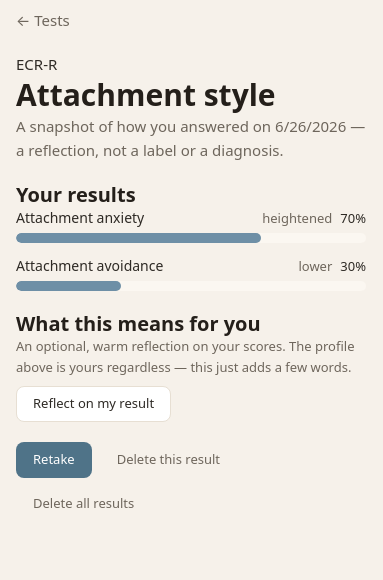
Test: TestResultScreen › shows a calm AI-off state when narrate is unavailable
The image size is (383, 580).
Click the button "Reflect on my result".
click(94, 404)  # box [16,386,171,422]
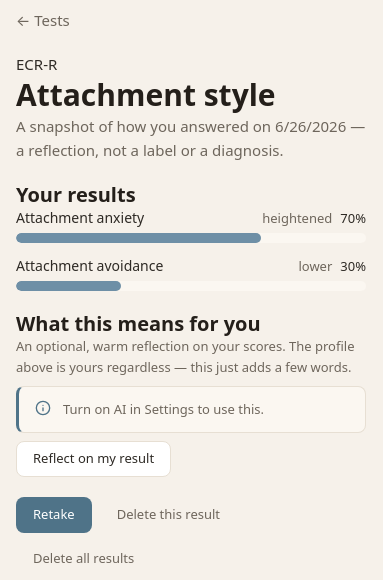
Check: the text "Turn on AI in Settings to use this." is shown, box [63,399,264,420]
